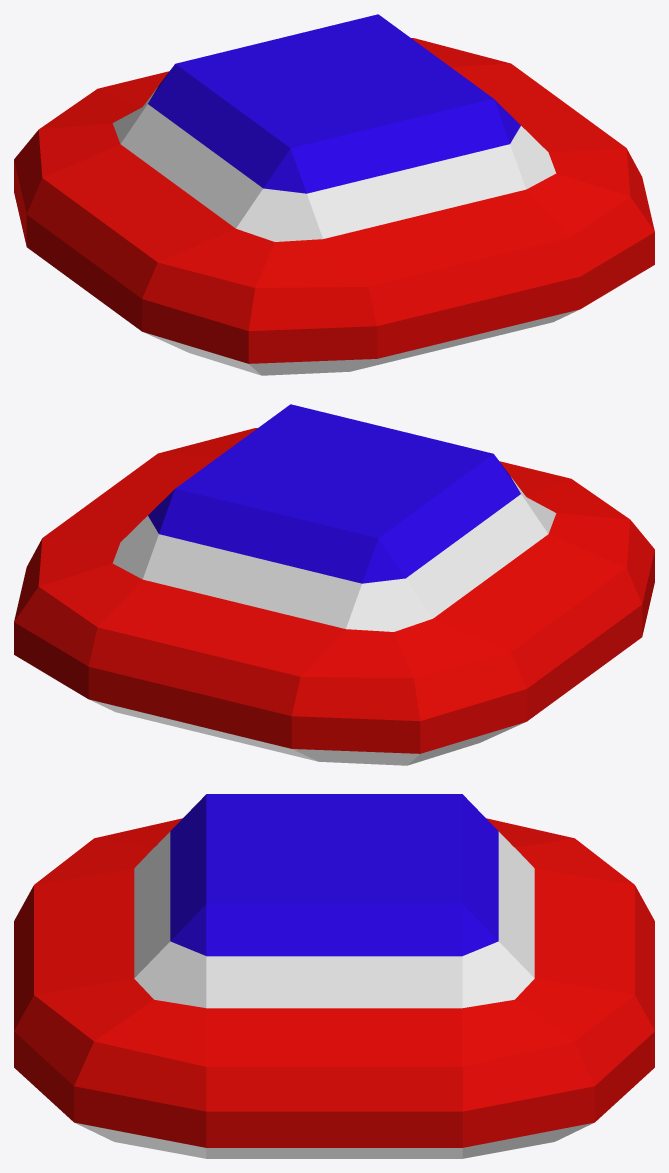
Rendered from Bot_Suicice_Base.fbx.
3 renders of one model, top to bottom at view 1: azimuth 30°, elevation 25°; view 2: azimuth 150°, elevation 25°; view 3: azimuth 270°, elevation 25°, orthographic. The views are drawn at different scales.
Visible parts, largest first — view 1: Cube; view 2: Cube; view 3: Cube.
Boxes of the visible parts, x1=… form: Cube: x1=14, y1=14, x2=654, y2=375; Cube: x1=14, y1=404, x2=654, y2=765; Cube: x1=14, y1=794, x2=654, y2=1158.
Bounding box in the file's own units: 320 × 110 × 320.
